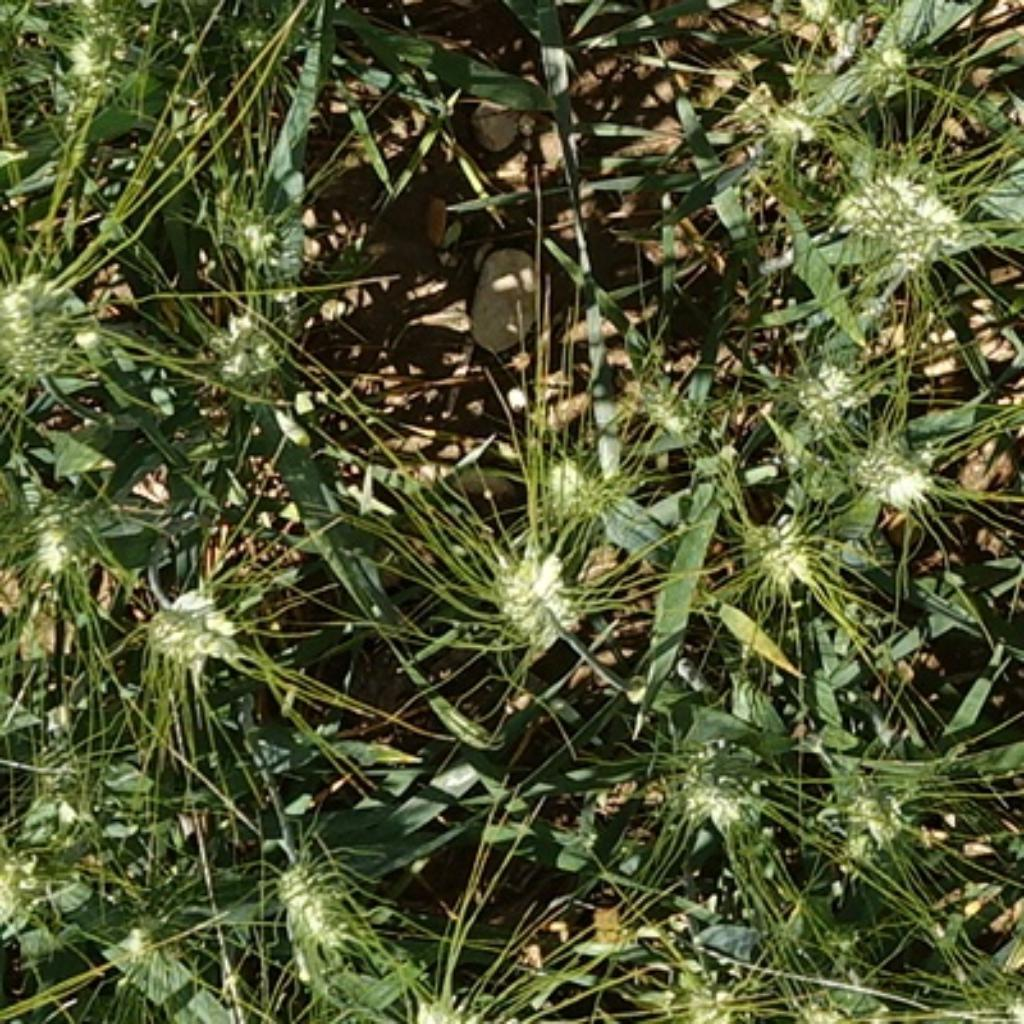0-0: (824, 140, 975, 276), (645, 724, 775, 834), (814, 742, 929, 862), (476, 524, 588, 645), (7, 463, 104, 601), (207, 168, 320, 286), (46, 0, 151, 117), (2, 248, 94, 381), (642, 921, 765, 1018), (189, 289, 296, 399), (268, 839, 363, 962), (10, 738, 95, 870), (135, 570, 245, 668), (391, 949, 529, 1024), (773, 332, 870, 432), (773, 954, 896, 1024), (842, 417, 939, 504), (734, 84, 829, 171), (112, 908, 202, 998), (527, 440, 622, 522), (624, 355, 711, 440), (734, 504, 819, 586), (0, 843, 69, 937), (834, 28, 916, 94), (785, 0, 875, 40), (156, 0, 222, 5)
